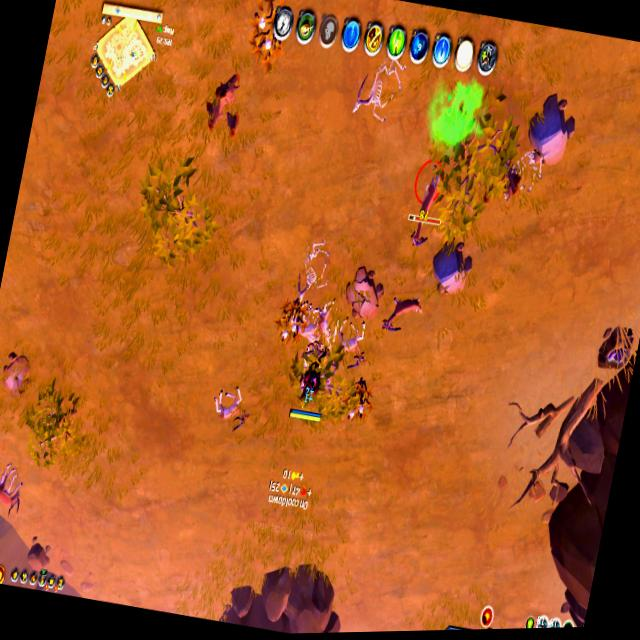hide: (244, 0, 296, 78), (273, 288, 313, 353), (338, 374, 380, 426)
mob: (296, 297, 340, 360), (331, 316, 372, 369), (210, 380, 250, 430)
ore: (402, 157, 452, 250), (378, 289, 426, 343), (0, 464, 31, 520)
red: (287, 353, 334, 429)
